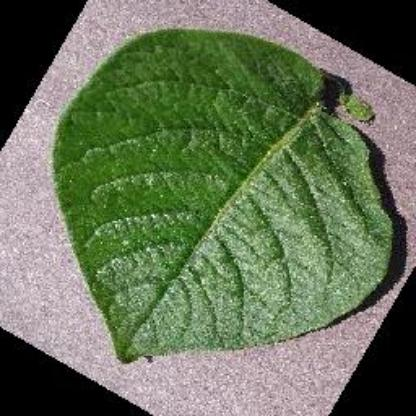Healthy-plant: (54, 20, 398, 370)
